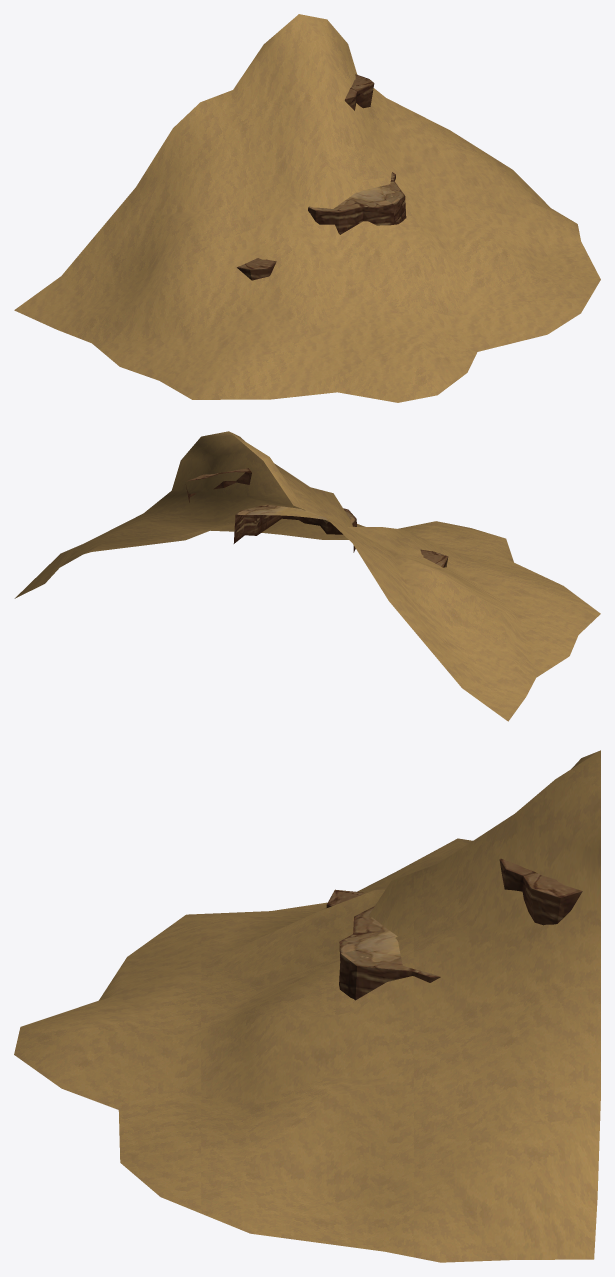
File: nashgar_construct_sand_large01_02.FBX
3 renders of one model, top to bottom at view 1: azimuth 30°, elevation 25°; view 2: azimuth 150°, elevation 25°; view 3: azimuth 270°, elevation 25°, orthographic. The views are drawn at different scales.
Parts seen in each view (by area): view 1: nashgar_construct_sand_large01_02; view 2: nashgar_construct_sand_large01_02; view 3: nashgar_construct_sand_large01_02.
Boxes of the visible parts, x1,y1,x2,y2 form: nashgar_construct_sand_large01_02: (14,14,600,402); nashgar_construct_sand_large01_02: (14,431,600,721); nashgar_construct_sand_large01_02: (14,750,600,1262).
Bounding box in the file's own units: 18.62 × 7.91 × 12.18.
